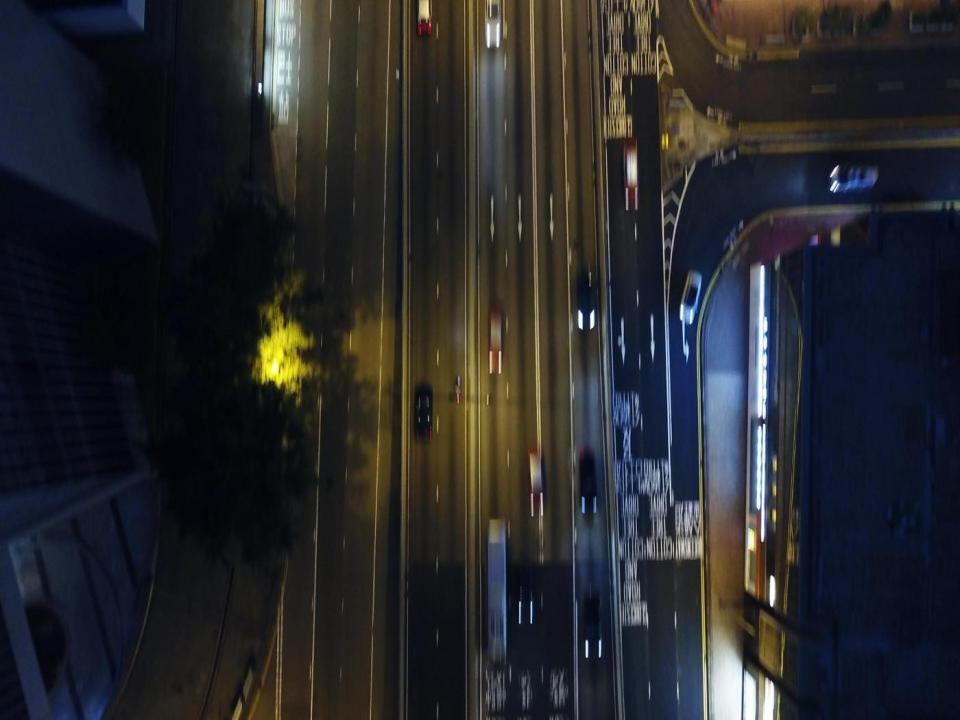bus: (487, 518, 507, 664)
car: (829, 162, 878, 194), (577, 446, 598, 513), (527, 442, 545, 516), (583, 590, 602, 660), (576, 262, 594, 329), (680, 270, 702, 324), (622, 138, 638, 211), (413, 384, 432, 441), (518, 562, 533, 627), (488, 306, 502, 374), (484, 0, 500, 48), (416, 0, 432, 37)
